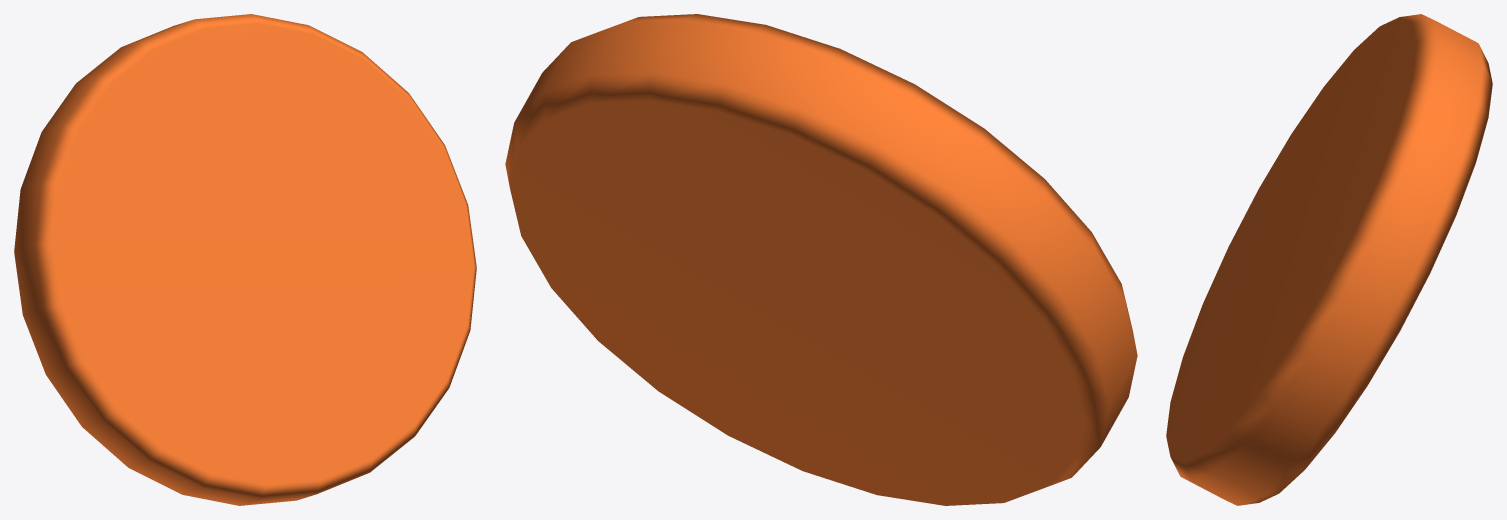
The model's file is BrewCoin.fbx.
3 views of the same model, side by side, from view 1: azimuth 30°, elevation 25°; view 2: azimuth 150°, elevation 25°; view 3: azimuth 270°, elevation 25° (orthographic). The views are drawn at different scales.
Visible parts, largest first — view 1: BrewCoin; view 2: BrewCoin; view 3: BrewCoin.
Part boxes in pixels (<box>): BrewCoin: <box>14,14,476,505</box>; BrewCoin: <box>505,14,1137,505</box>; BrewCoin: <box>1166,14,1492,505</box>.
Size of the model in its own units: 0.7158 by 0.6545 by 0.4442.
1 material, 1 textured.
